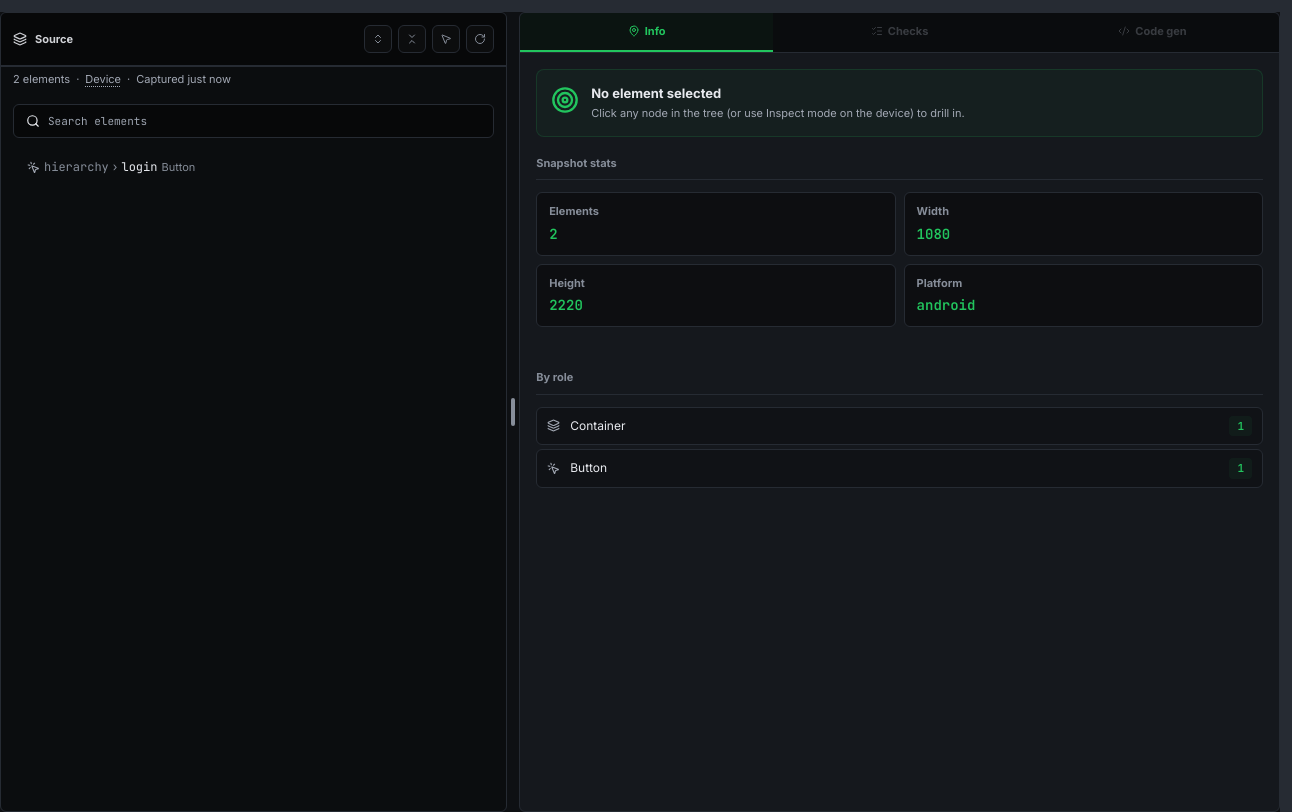
Test case: OmniInspector — locator actions › checks for a session again on each capture
The image size is (1292, 812).
Step 1. Click the list item "hierarchy › login Button" → (111, 167), box [27, 159, 195, 175]
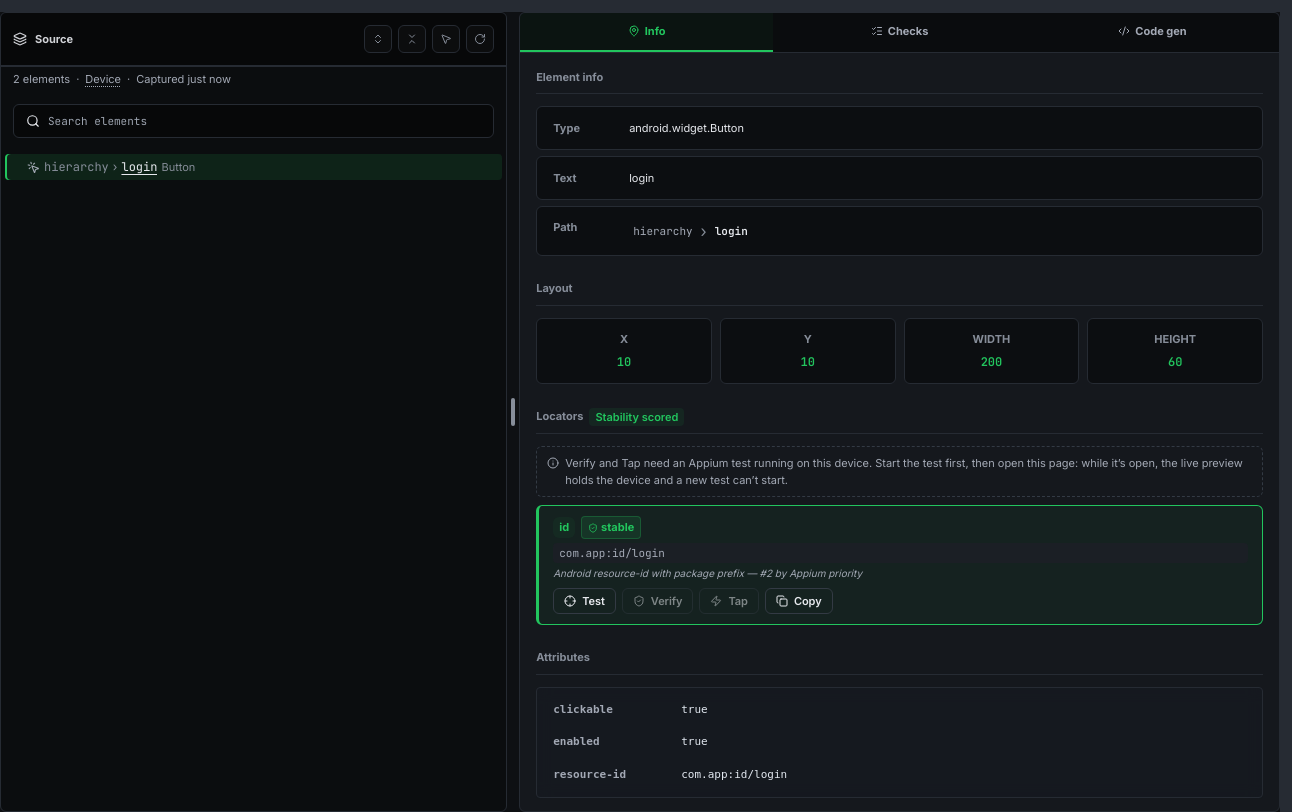
Check: the button with aria-label "Verify with Appium" is disabled, box [622, 588, 693, 614]
Step 2. Click the button named "Refresh snapshot" → (480, 39), box [466, 25, 494, 53]
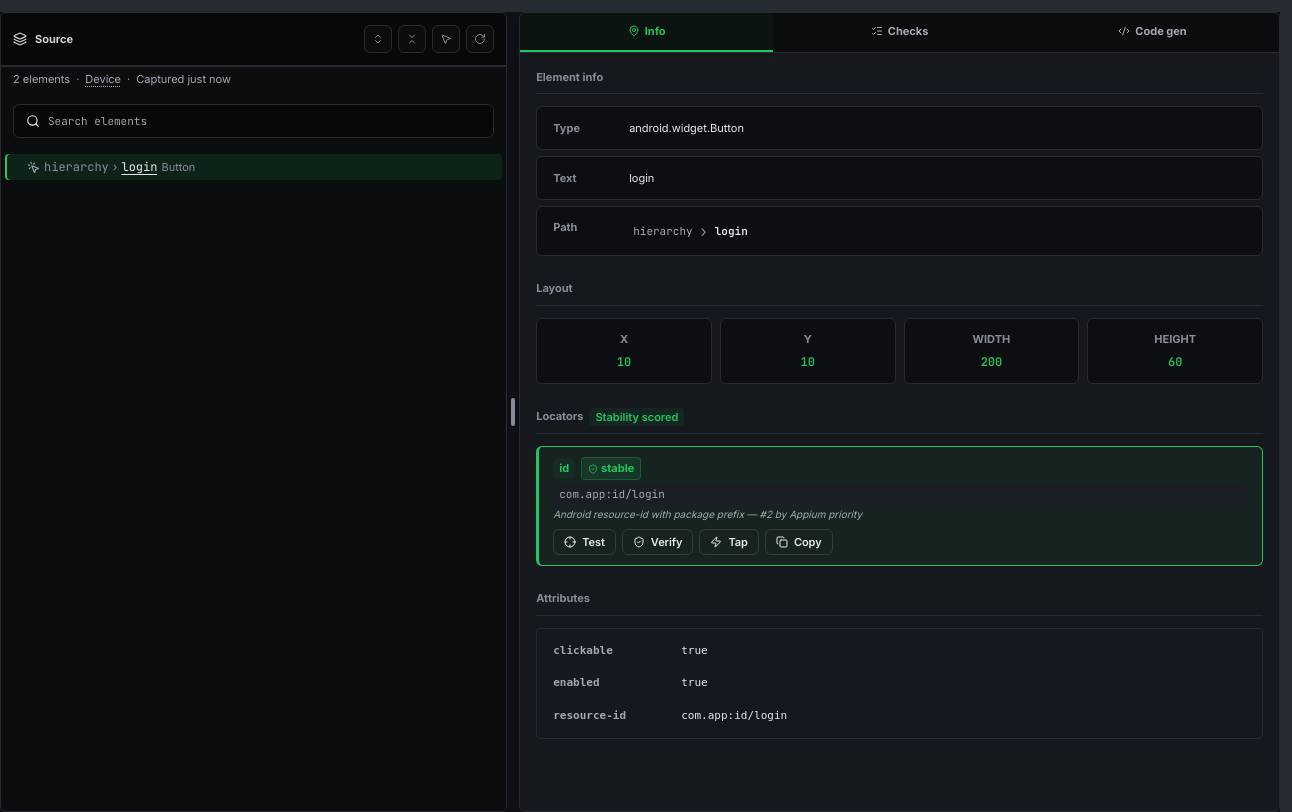
Check: the button with aria-label "Verify with Appium" is enabled, box [622, 529, 693, 555]
Check: the text "Verify and Tap need an Appium test running on this device" is gone
